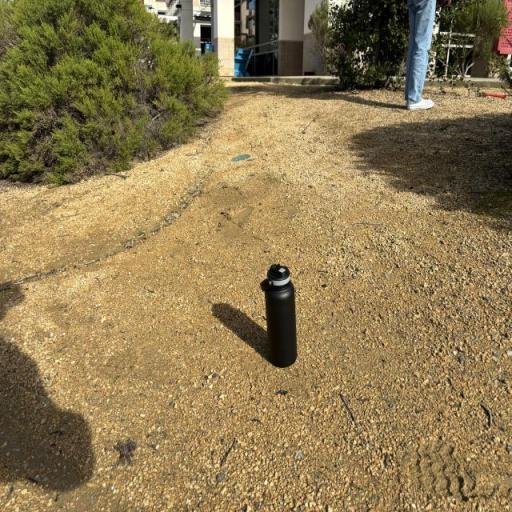bottle: (260, 261, 299, 377)
mallet: (481, 90, 510, 100)
